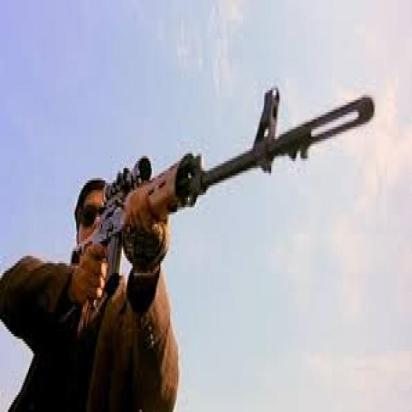Gun: (69, 86, 376, 296)
